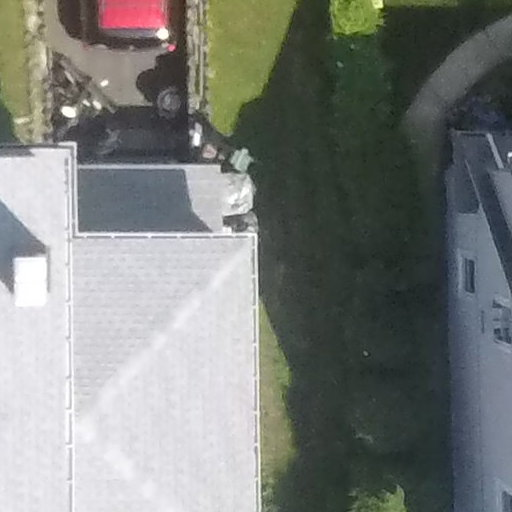trash: (41, 49, 108, 148)
